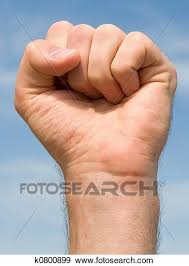fist: (12, 19, 181, 175)
